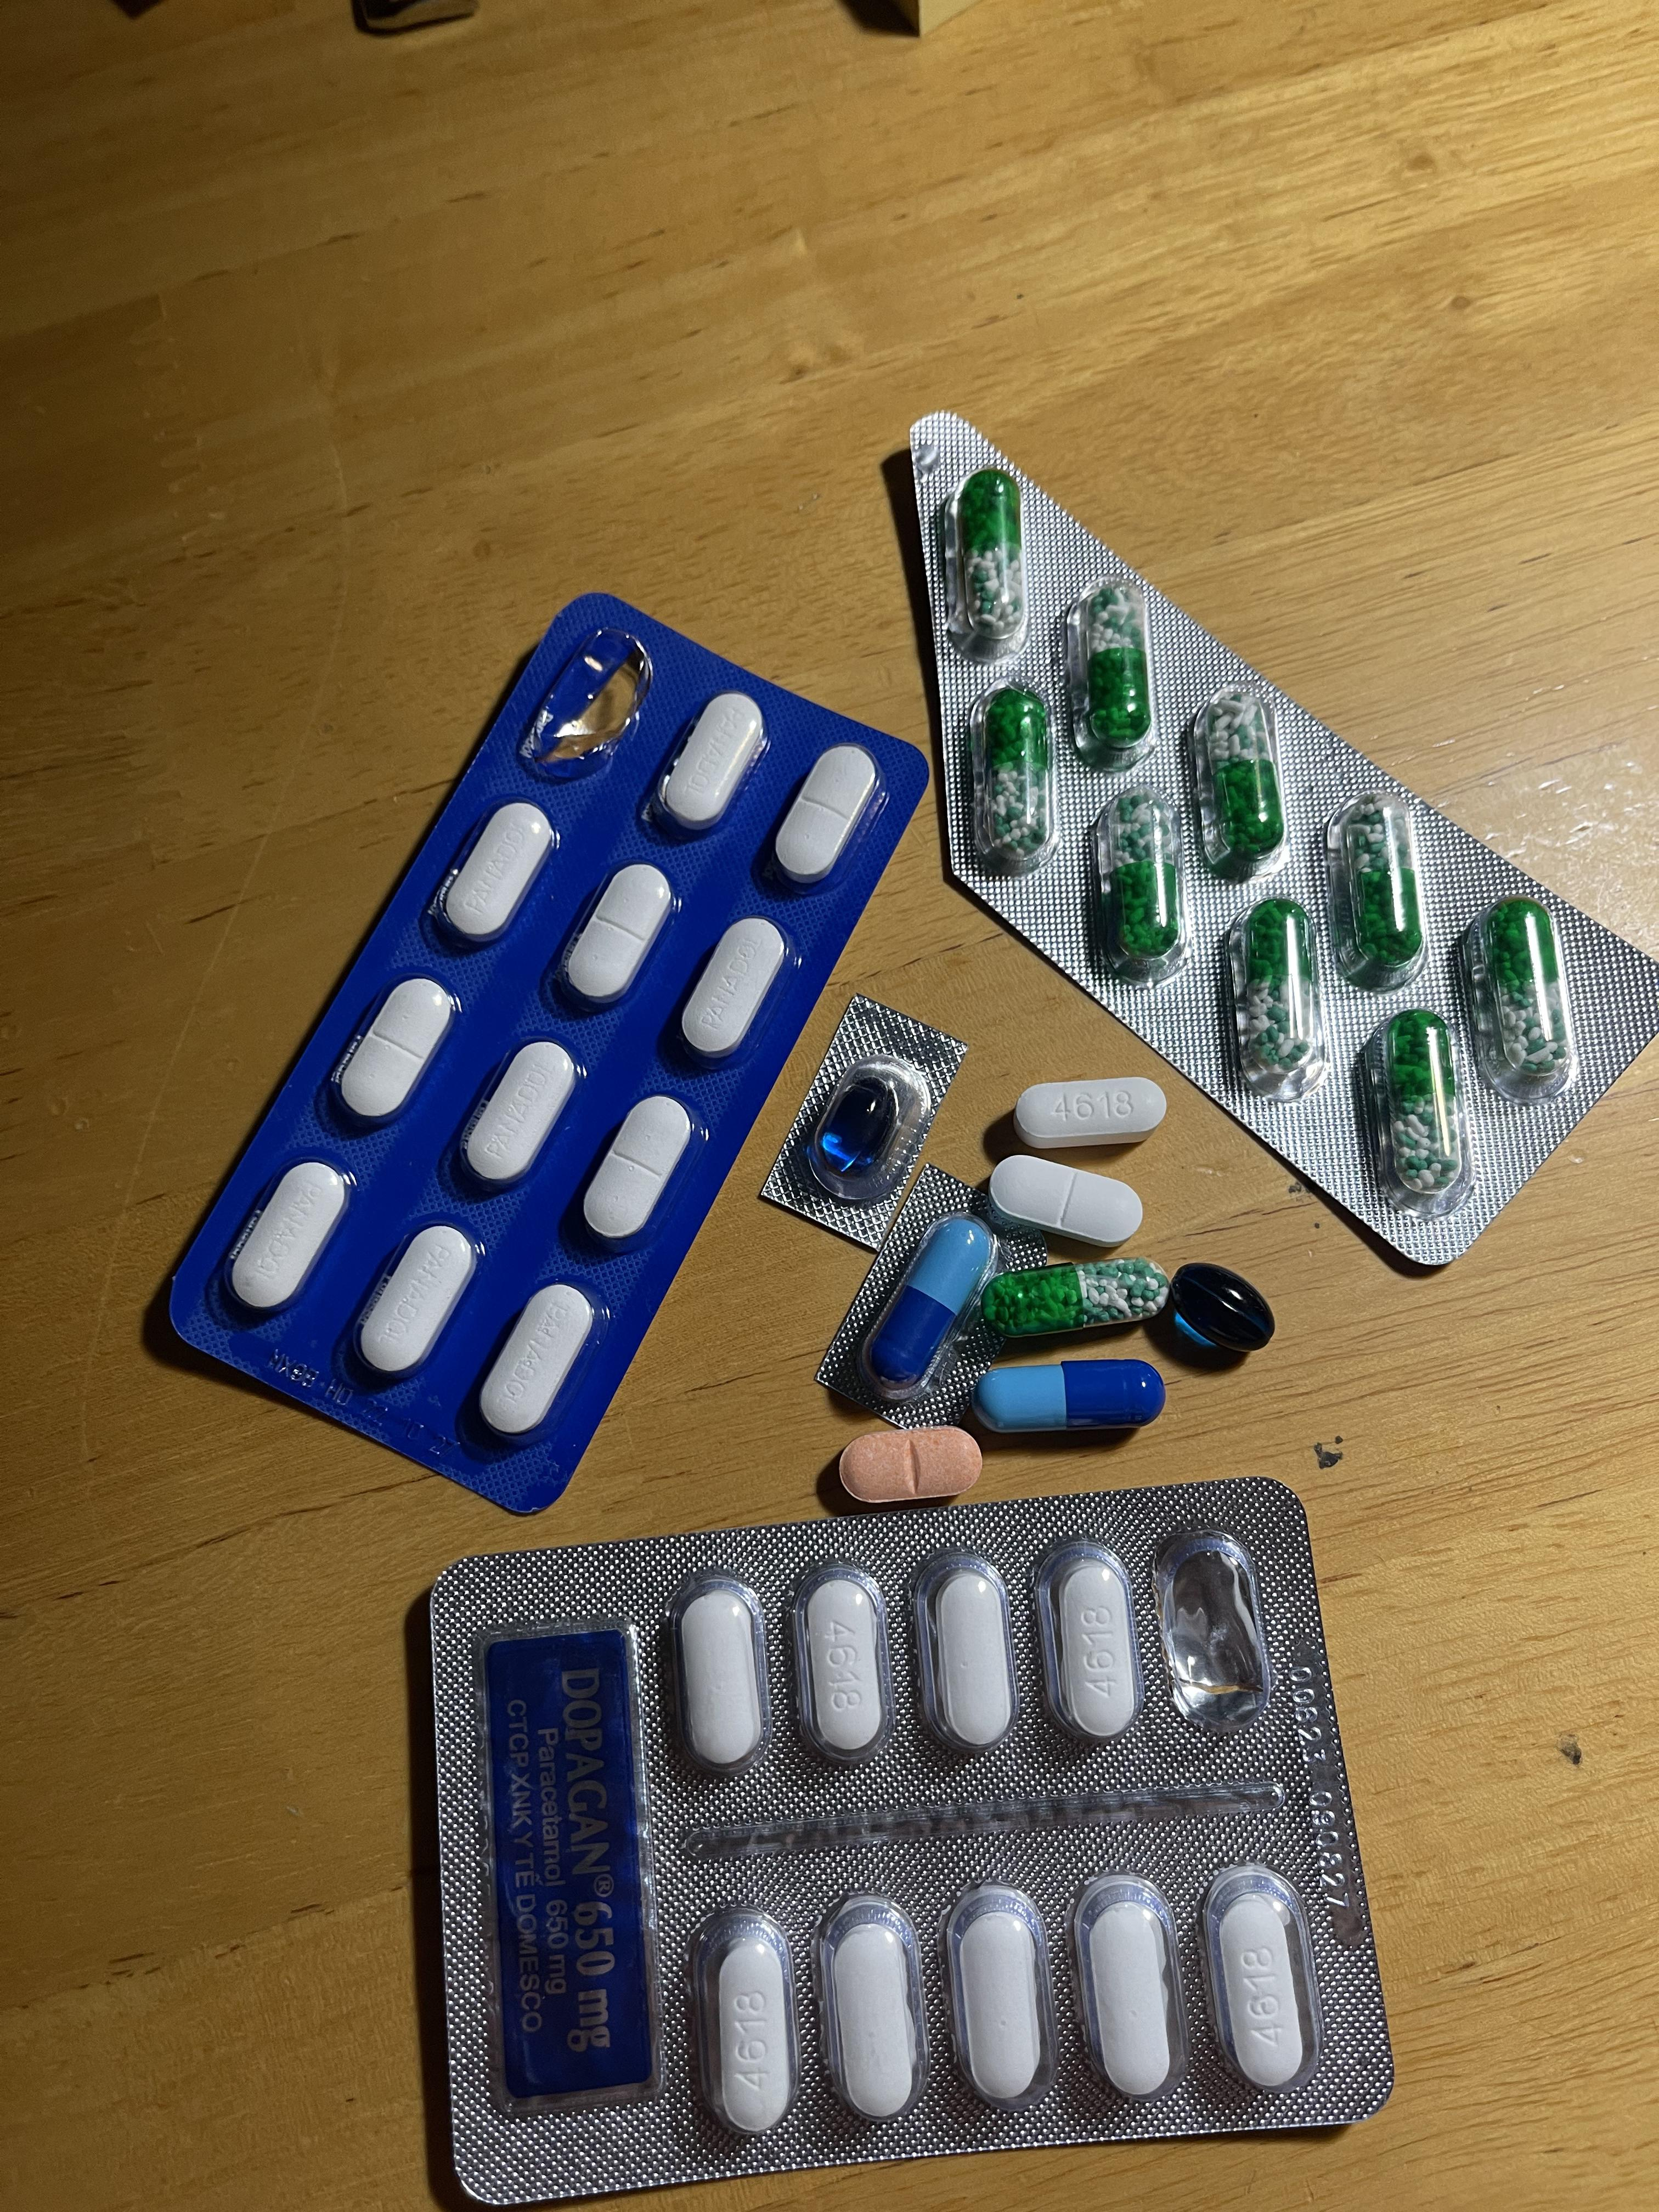Lincomyxin_500mg: (1169, 1261, 1277, 1355), (815, 1077, 894, 1173)
Loratadine_10mg: (840, 1430, 980, 1504)
Paracetamol_350mg: (230, 1160, 354, 1316), (356, 1223, 478, 1381), (477, 1283, 596, 1438), (580, 1092, 698, 1245), (433, 803, 555, 951), (461, 1039, 580, 1190), (560, 862, 675, 1012), (337, 976, 455, 1122), (678, 916, 789, 1065), (657, 693, 767, 837), (766, 742, 873, 889), (988, 1156, 1144, 1249)
Paracetamol_500mg: (958, 1905, 1042, 2104), (832, 1919, 916, 2118), (1087, 1901, 1172, 2097), (1216, 1900, 1305, 2090), (680, 1590, 762, 1769), (933, 1566, 1012, 1747), (716, 1944, 789, 2130), (805, 1583, 883, 1754), (1059, 1564, 1135, 1733), (1015, 1079, 1169, 1149)
Paracetamol_650mg: (1235, 895, 1318, 1084), (978, 1255, 1165, 1337), (1341, 797, 1422, 976), (1485, 907, 1570, 1075), (1205, 687, 1283, 867), (1098, 786, 1176, 961), (1384, 1014, 1459, 1192), (981, 690, 1052, 859), (1082, 583, 1150, 752), (960, 473, 1024, 644)
pill: (860, 1213, 993, 1403), (972, 1359, 1161, 1434)
